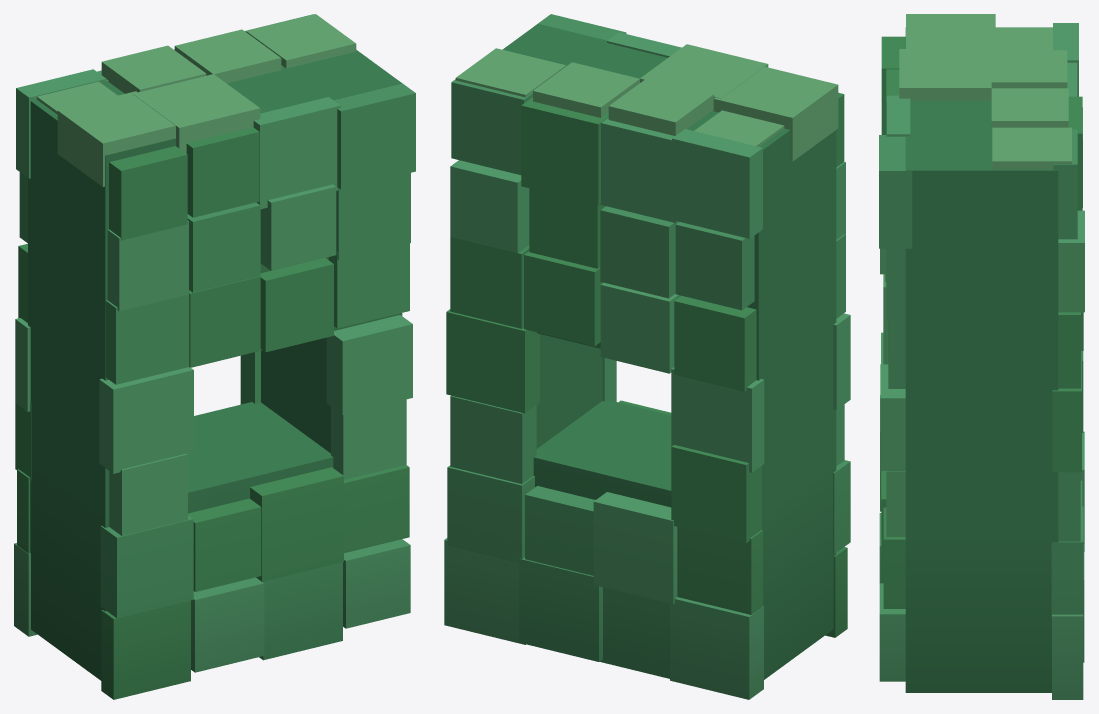
The model's file is hedge-window-h3.4.glb.
3 renders of one model, left to right at view 1: azimuth 30°, elevation 25°; view 2: azimuth 150°, elevation 25°; view 3: azimuth 270°, elevation 25°, orthographic.
Parts seen in each view (by area): view 1: hedge-window-h3.4_body; view 2: hedge-window-h3.4_body; view 3: hedge-window-h3.4_body.
Boxes of the visible parts, x1,y1,x2,y2 form: hedge-window-h3.4_body: (14,14,415,699); hedge-window-h3.4_body: (444,14,850,699); hedge-window-h3.4_body: (879,14,1084,699).
Size of the model in its own units: 2.04 by 3.55 by 1.21.
